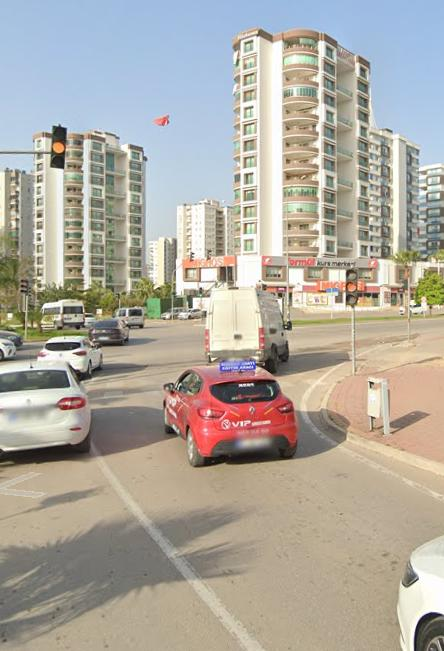yellowlight: (52, 125, 66, 167)
